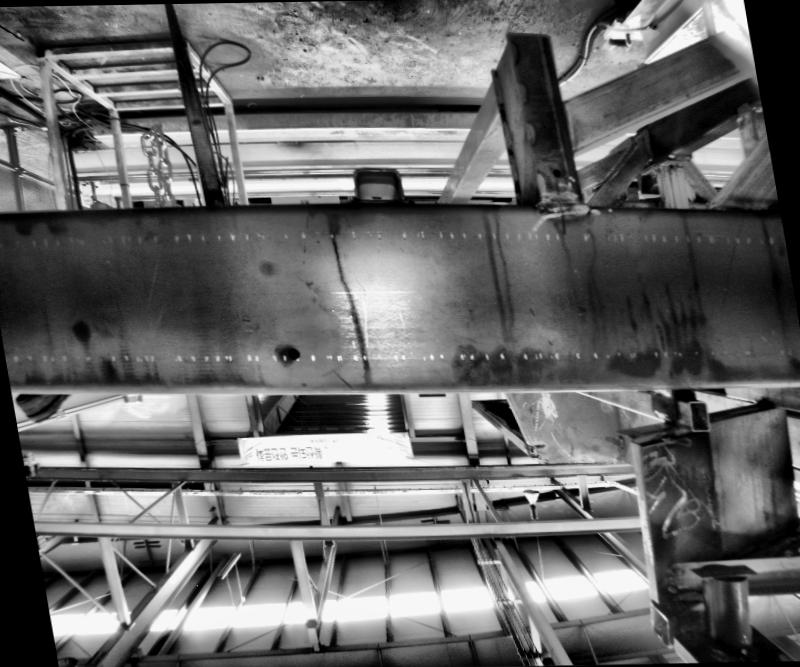bracket: (333, 157, 414, 201)
hole: (284, 344, 296, 356), (548, 167, 560, 176)
welding: (531, 185, 582, 206)
